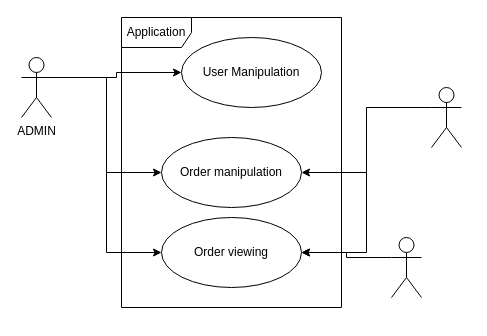
Some shapes in this 487 by 336 pixel diagram are drawn without their labels. The shapes that lost their labels are listed below. From the top down, each one's centre as x and y in pixels, then its label:
point (446, 117): Manager
point (406, 267): Base employee
